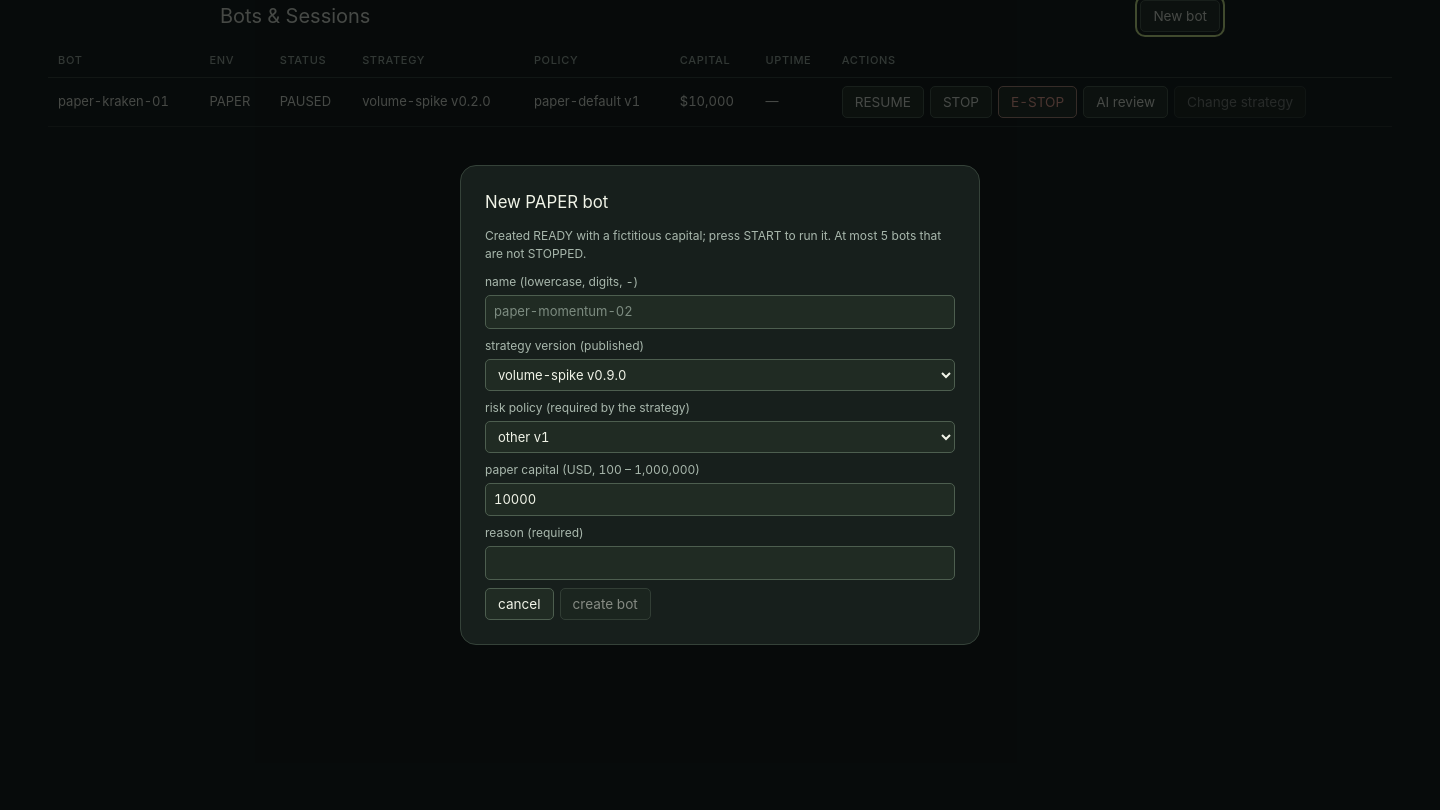
Test: New bot › filters the policy on the strategy, shows field errors, then creates
This screenshot has width=1440, height=810.
Earlier steps of the test are not shown.
Select "volume-spike v0.2.0" in the dropdown labelled "strategy version" at (720, 375), box [485,359,955,391]
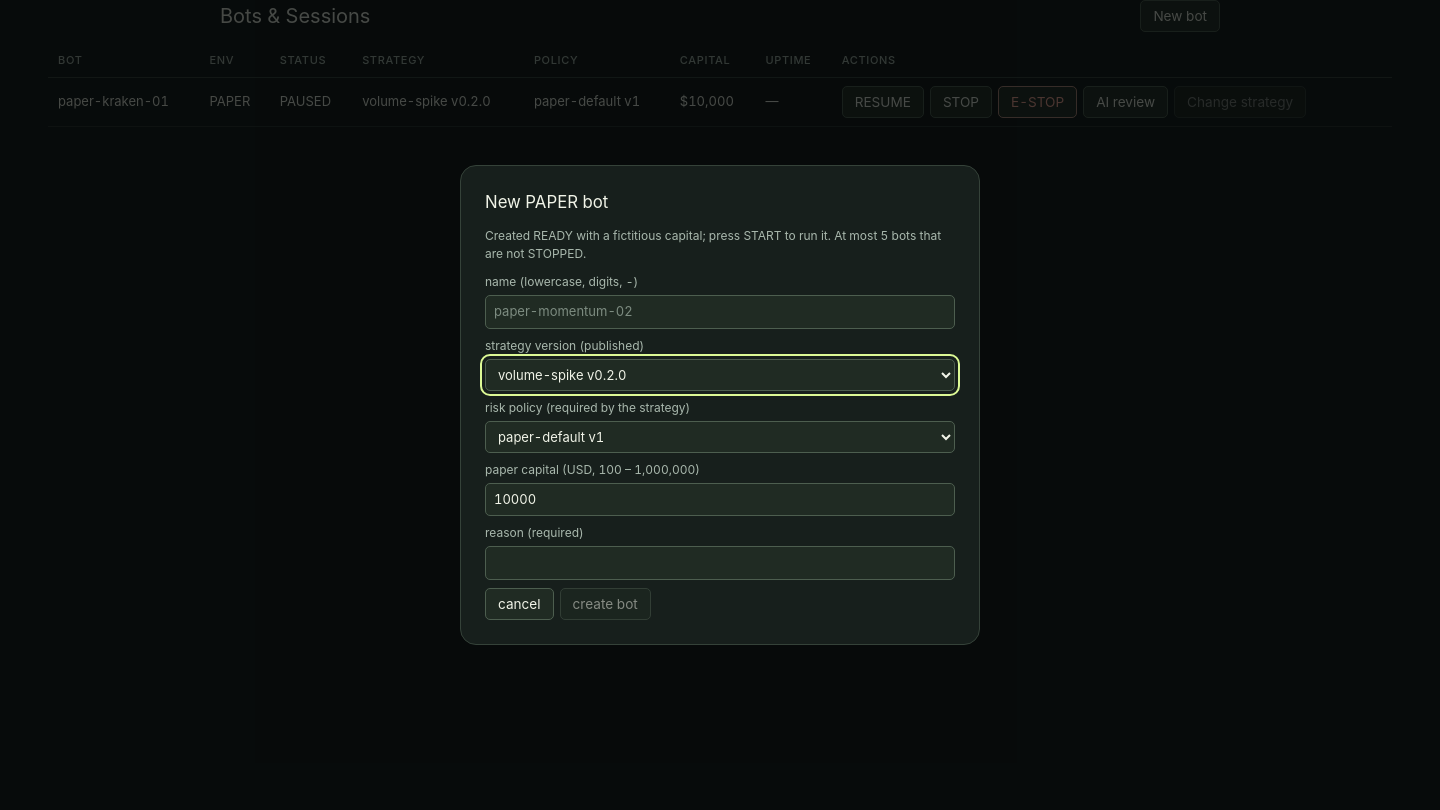
Type "paper-b" into the field labelled "name (lowercase, digits, -)" at (720, 312), box [485,295,955,329]
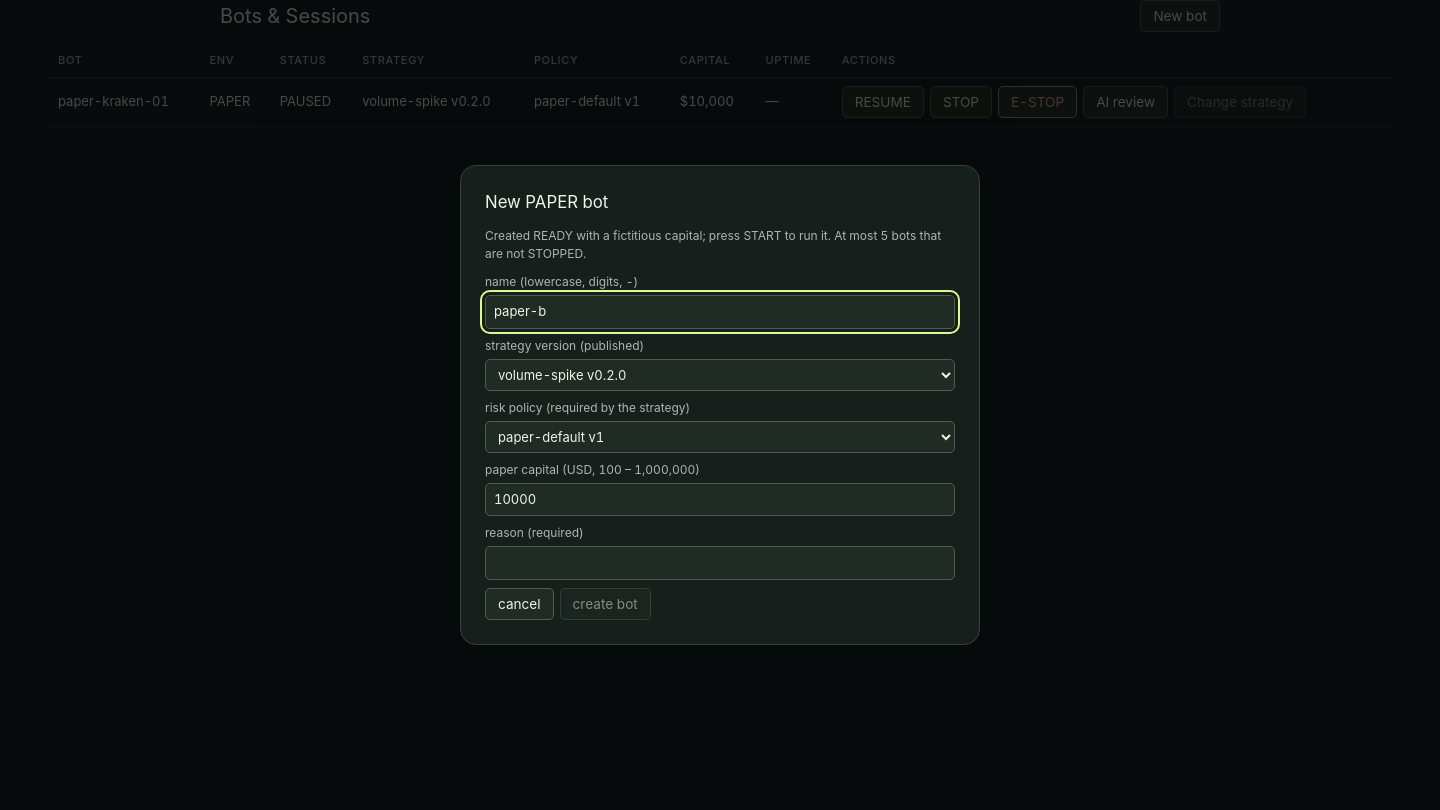
Replace the text in the field labelled "paper capital (USD, 100 – 1,000,000)" with "50" at (720, 499), box [485,483,955,516]
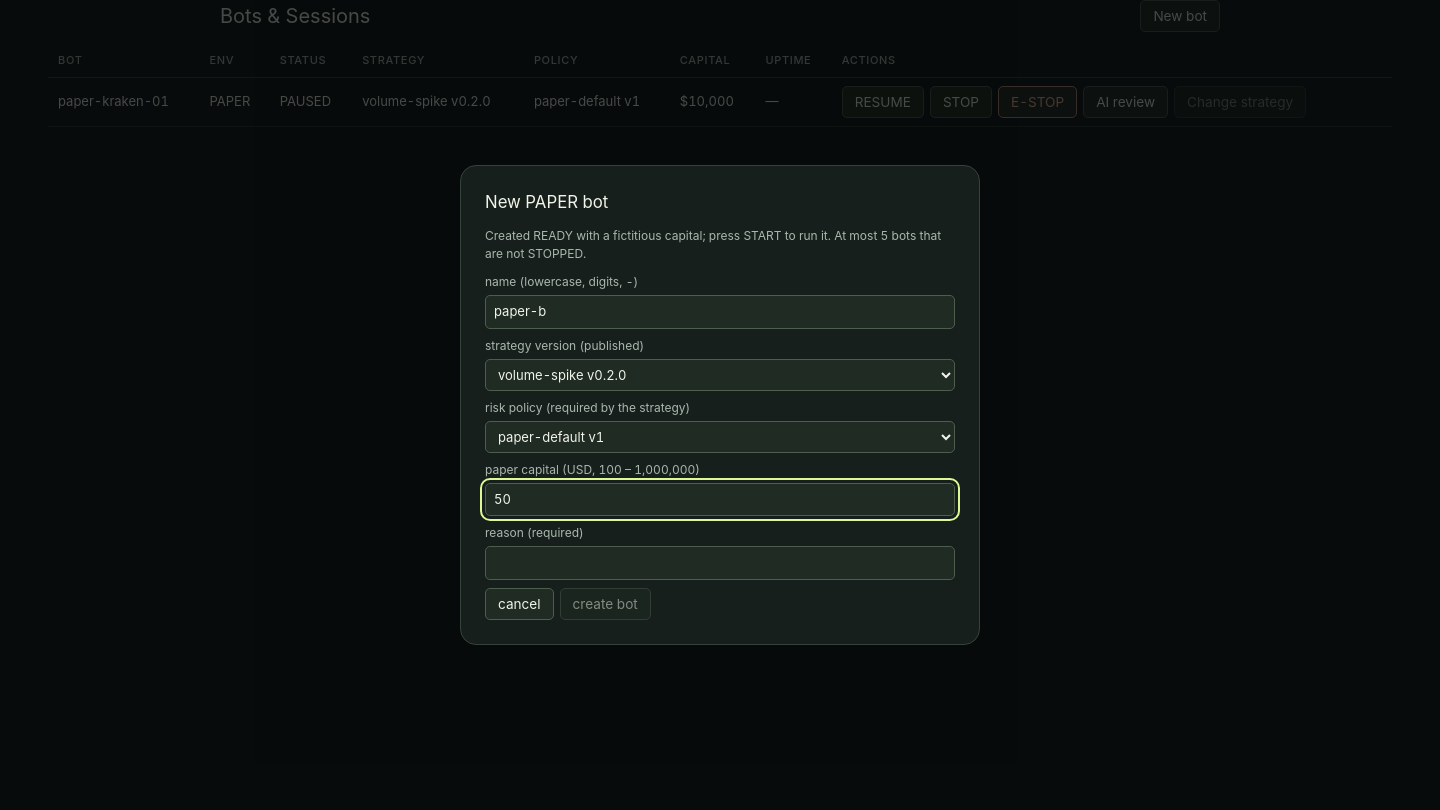
Type "comparaison" into the field labelled "reason (required)" at (720, 563), box [485,546,955,580]
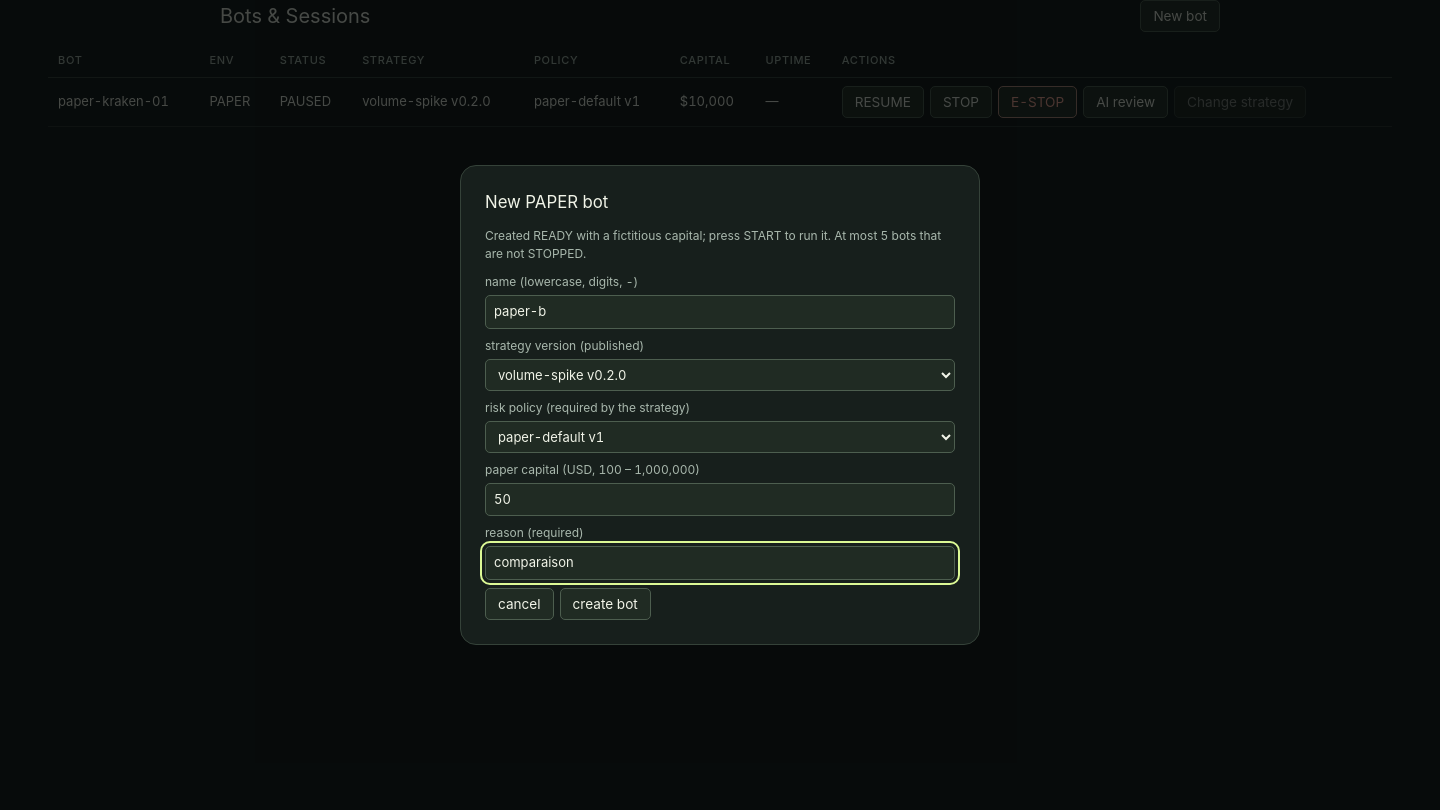
Click the button "create bot" at (605, 604), box [560,588,651,620]
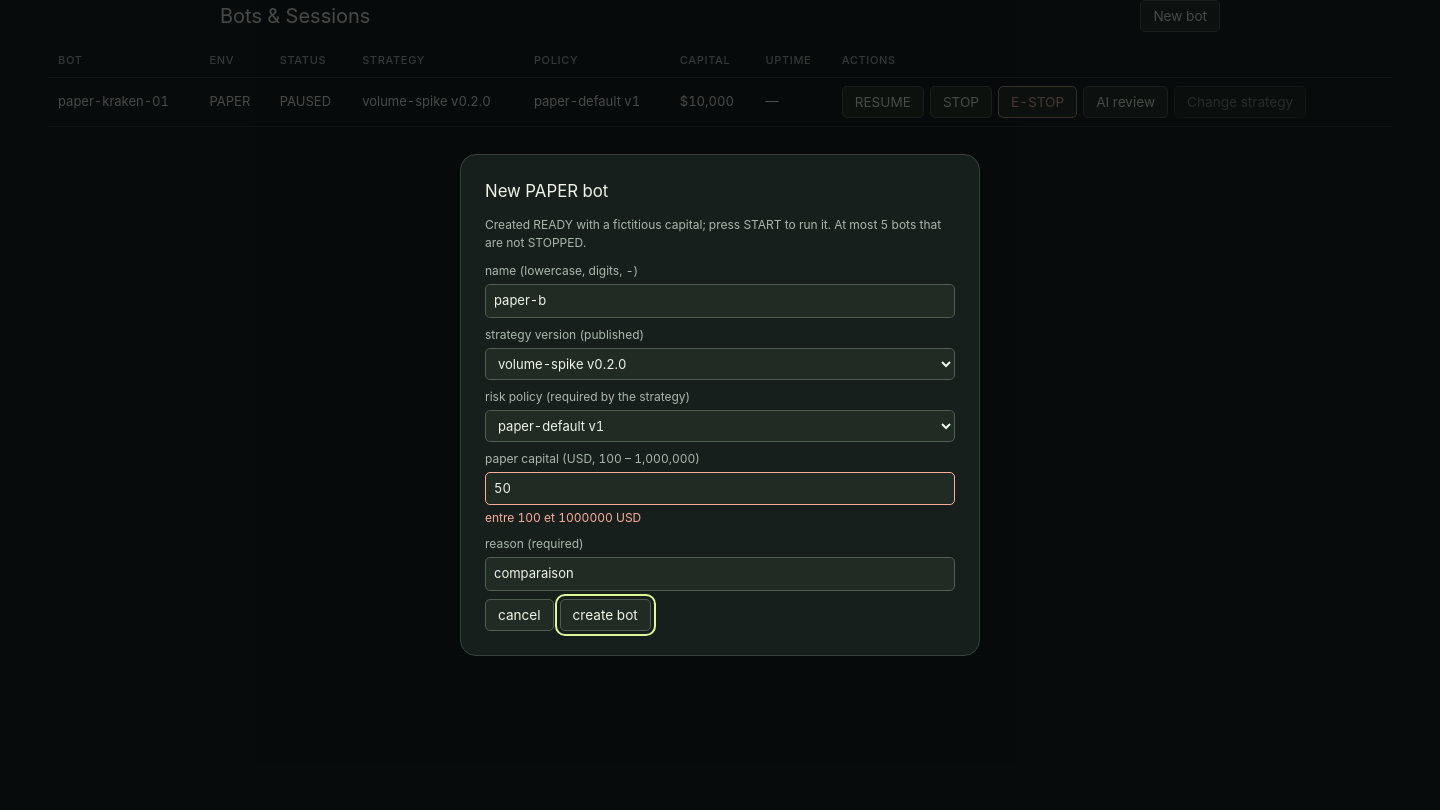
Expected: the text "entre 100 et 1000000 USD" is shown, [485,510,641,525]
Replace the text in the field labelled "paper capital" with "5000" at (720, 488), box [485,472,955,505]
Click the button "create bot" at (605, 615), box [560,599,651,631]
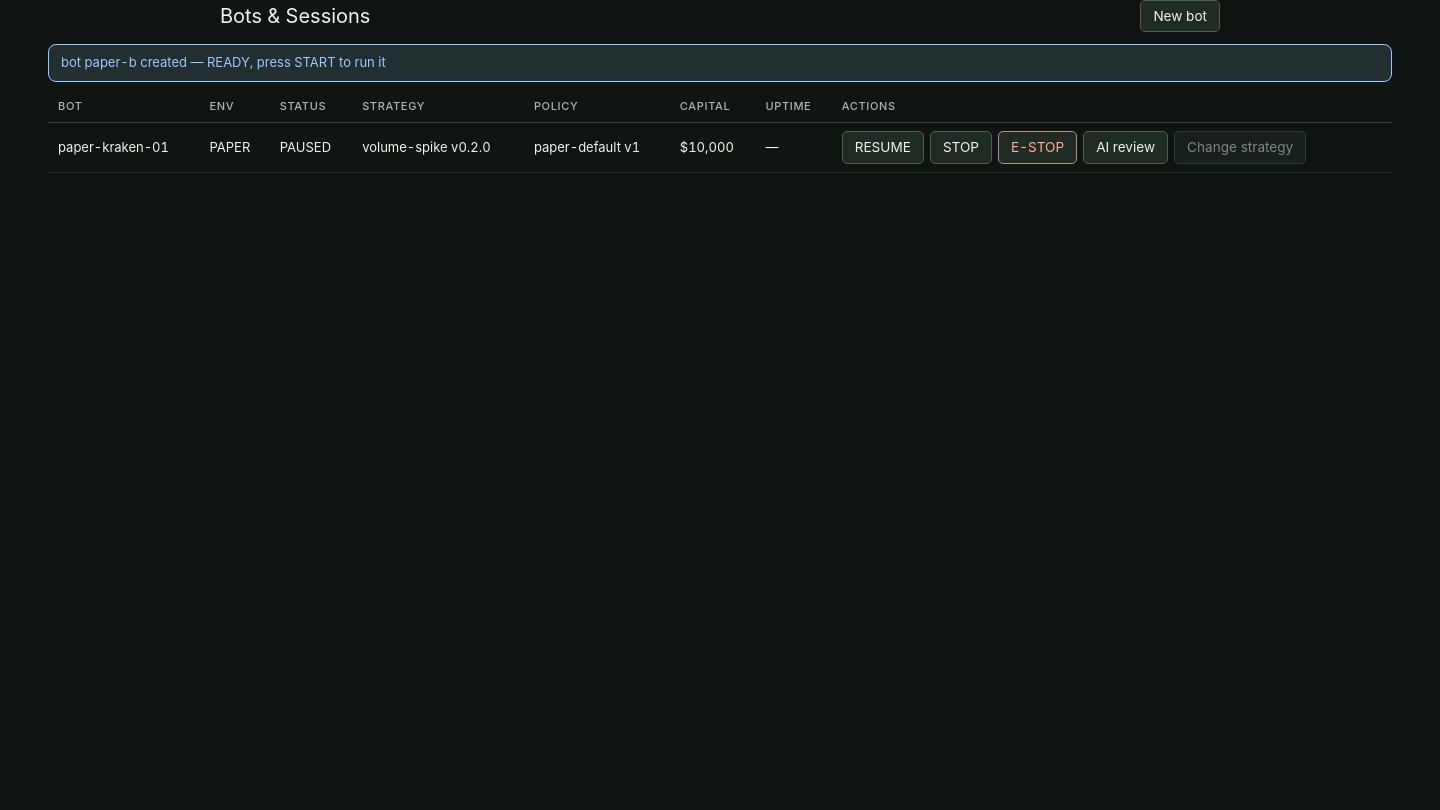
Expected: the text "bot paper-b created — READY, press START to run it" is shown, [48,44,1392,82]
